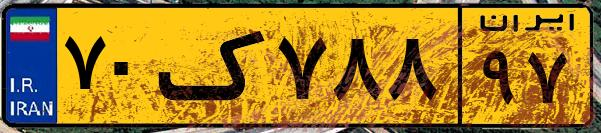0: (110, 28, 158, 98)
7: (270, 28, 330, 110), (57, 26, 110, 100), (525, 38, 570, 115)
8: (385, 28, 445, 110), (330, 28, 385, 110)
9: (475, 38, 525, 113)
ک: (158, 12, 270, 120)
